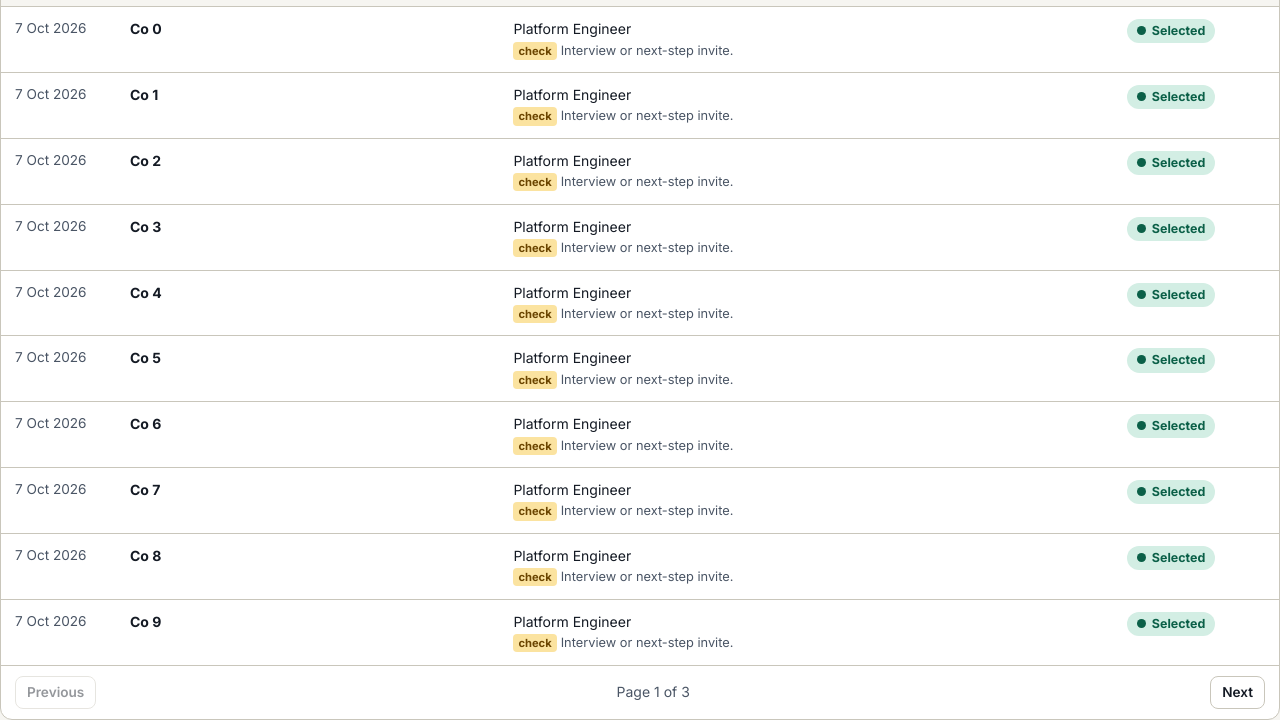
ApplicationList › shows at most 10 rows per page and pages through the rest
(page scrolled)
Check: the text "Page 1 of 3" is shown, box [617,682,690,703]
Check: the button "Previous" is disabled, box [15,676,96,709]
What coordinates should you click on to do the following:
click the button "Next"
I would click on:
 (1238, 692)
Its box is [1210,676,1265,709].
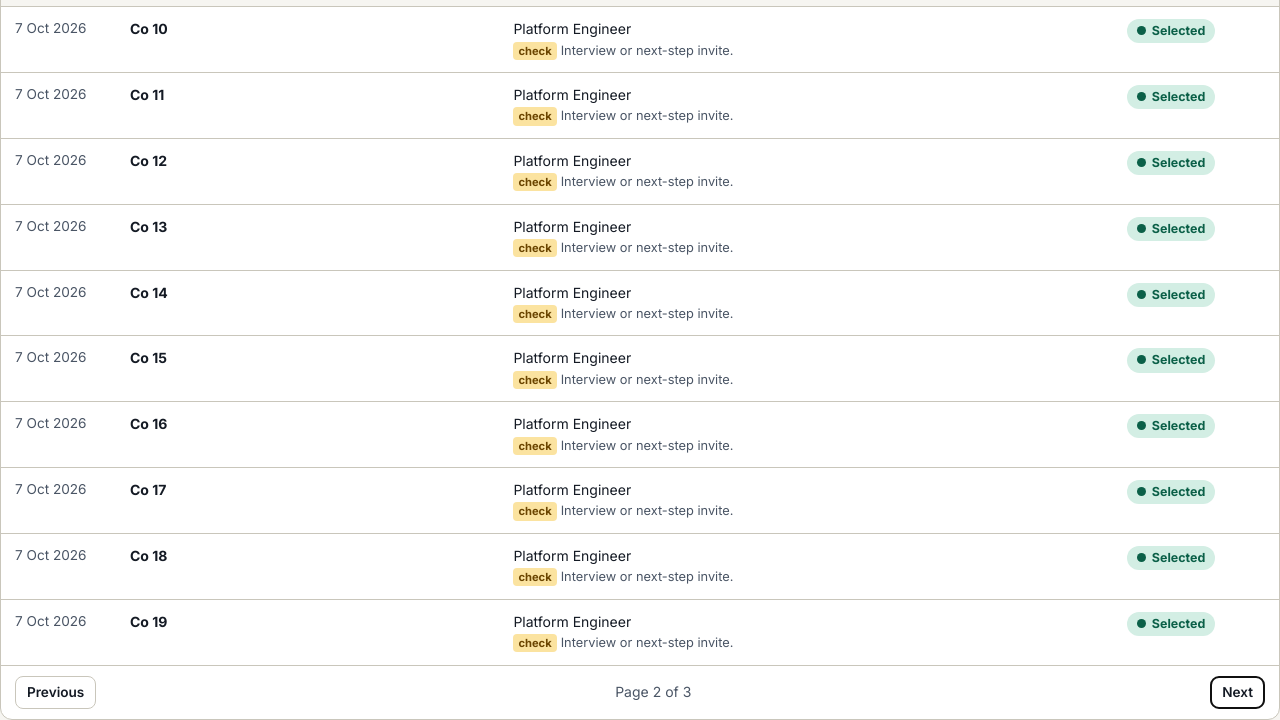
What coordinates should you click on to do the following:
click the button "Next"
I would click on:
 (1238, 692)
Its box is [1210,676,1265,709].
(page scrolled)
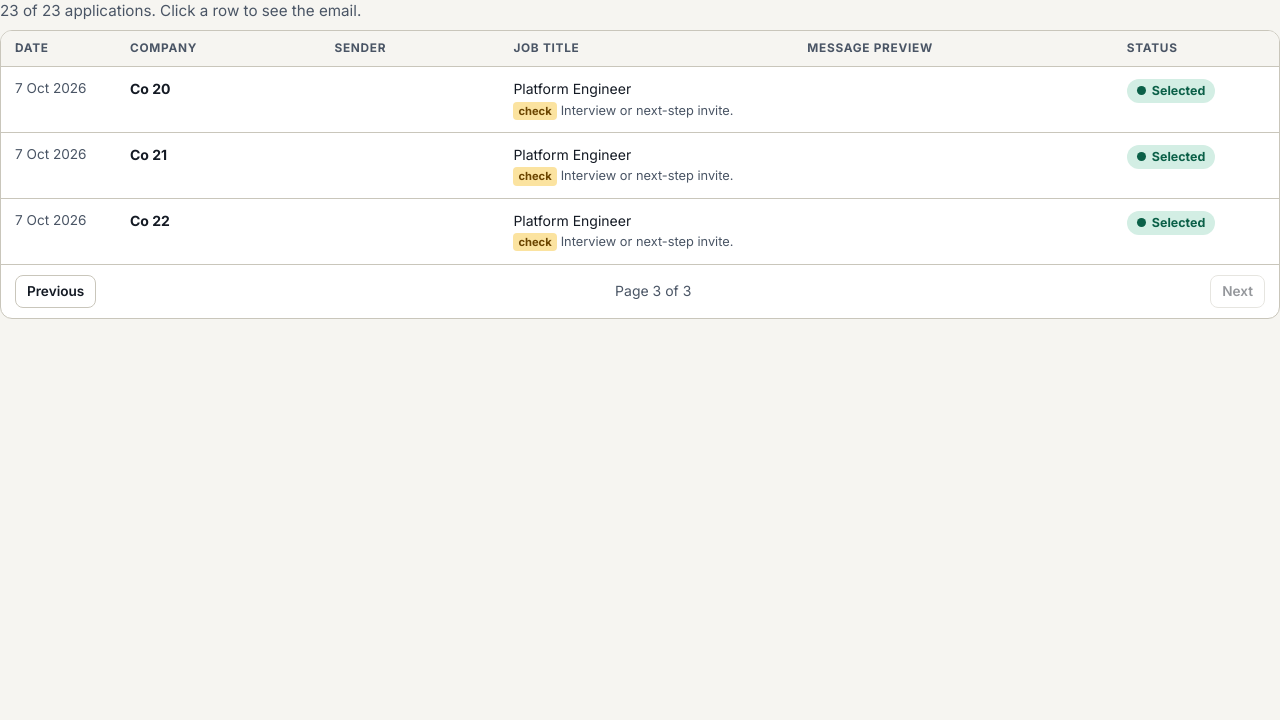
Check: the number of rows is 4, box [1,31,1279,66]; [1,67,1279,132]; [1,132,1279,198]; [1,198,1279,264]
Check: the button "Next" is disabled, box [1210,275,1265,308]
